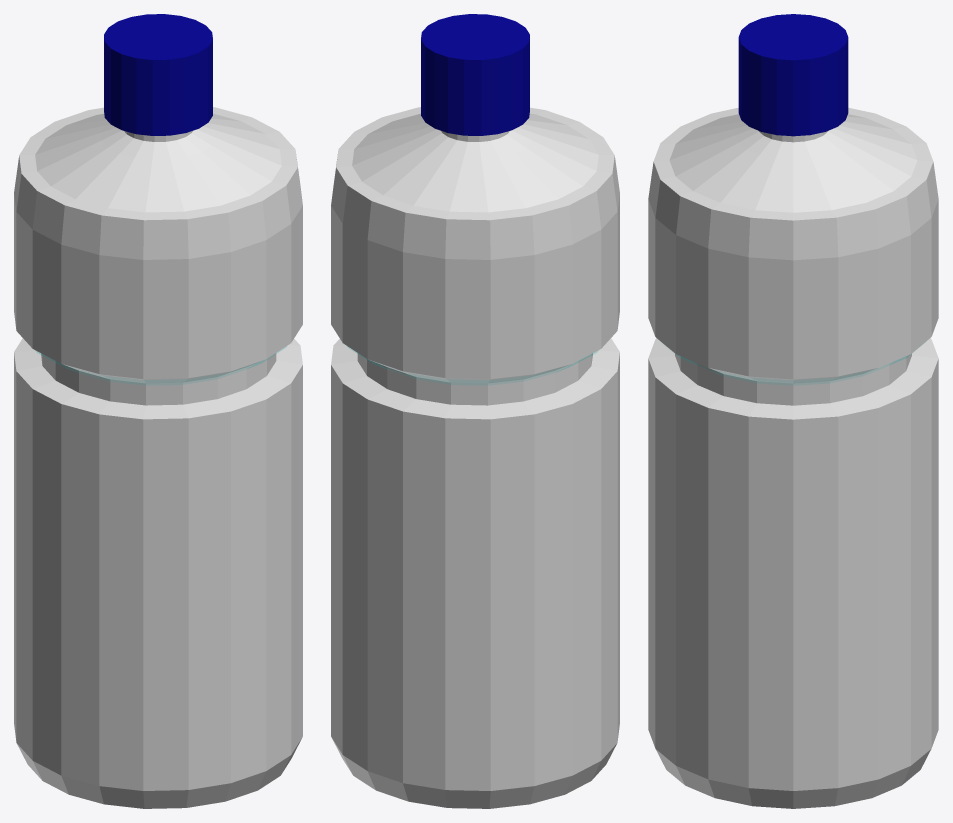
Rendered from Water_for_Drink.fbx.
3 views of the same model, side by side, from view 1: azimuth 30°, elevation 25°; view 2: azimuth 150°, elevation 25°; view 3: azimuth 270°, elevation 25° (orthographic).
Visible parts, largest first — view 1: pCylinder1; view 2: pCylinder1; view 3: pCylinder1.
Part boxes in pixels (left/top/right/bottom): pCylinder1: left=14, top=14, right=302, bottom=808; pCylinder1: left=331, top=14, right=619, bottom=808; pCylinder1: left=648, top=14, right=938, bottom=808.
Size of the model in its own units: 2 by 5.44 by 2.
